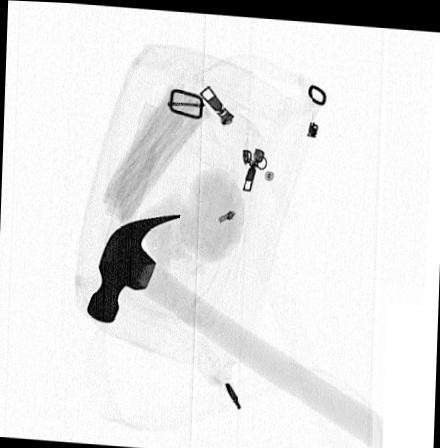Hammer: (86, 211, 384, 448)
